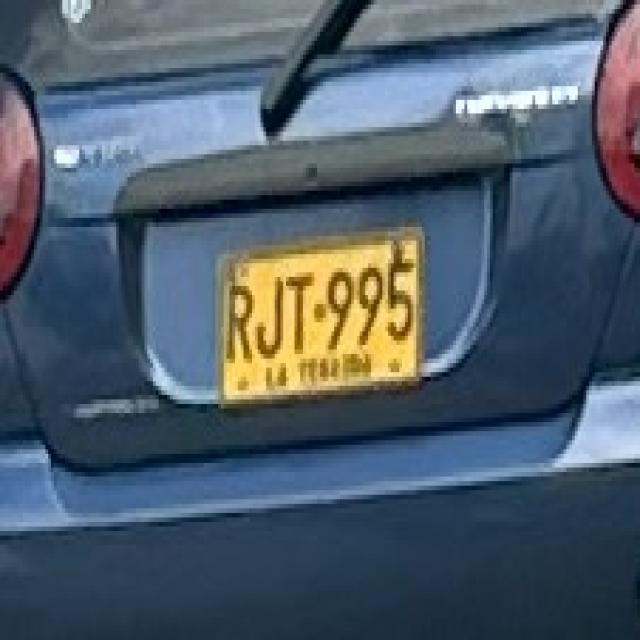number plate: (218, 222, 419, 395)
